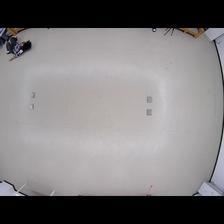fall: (3, 33, 35, 63)
